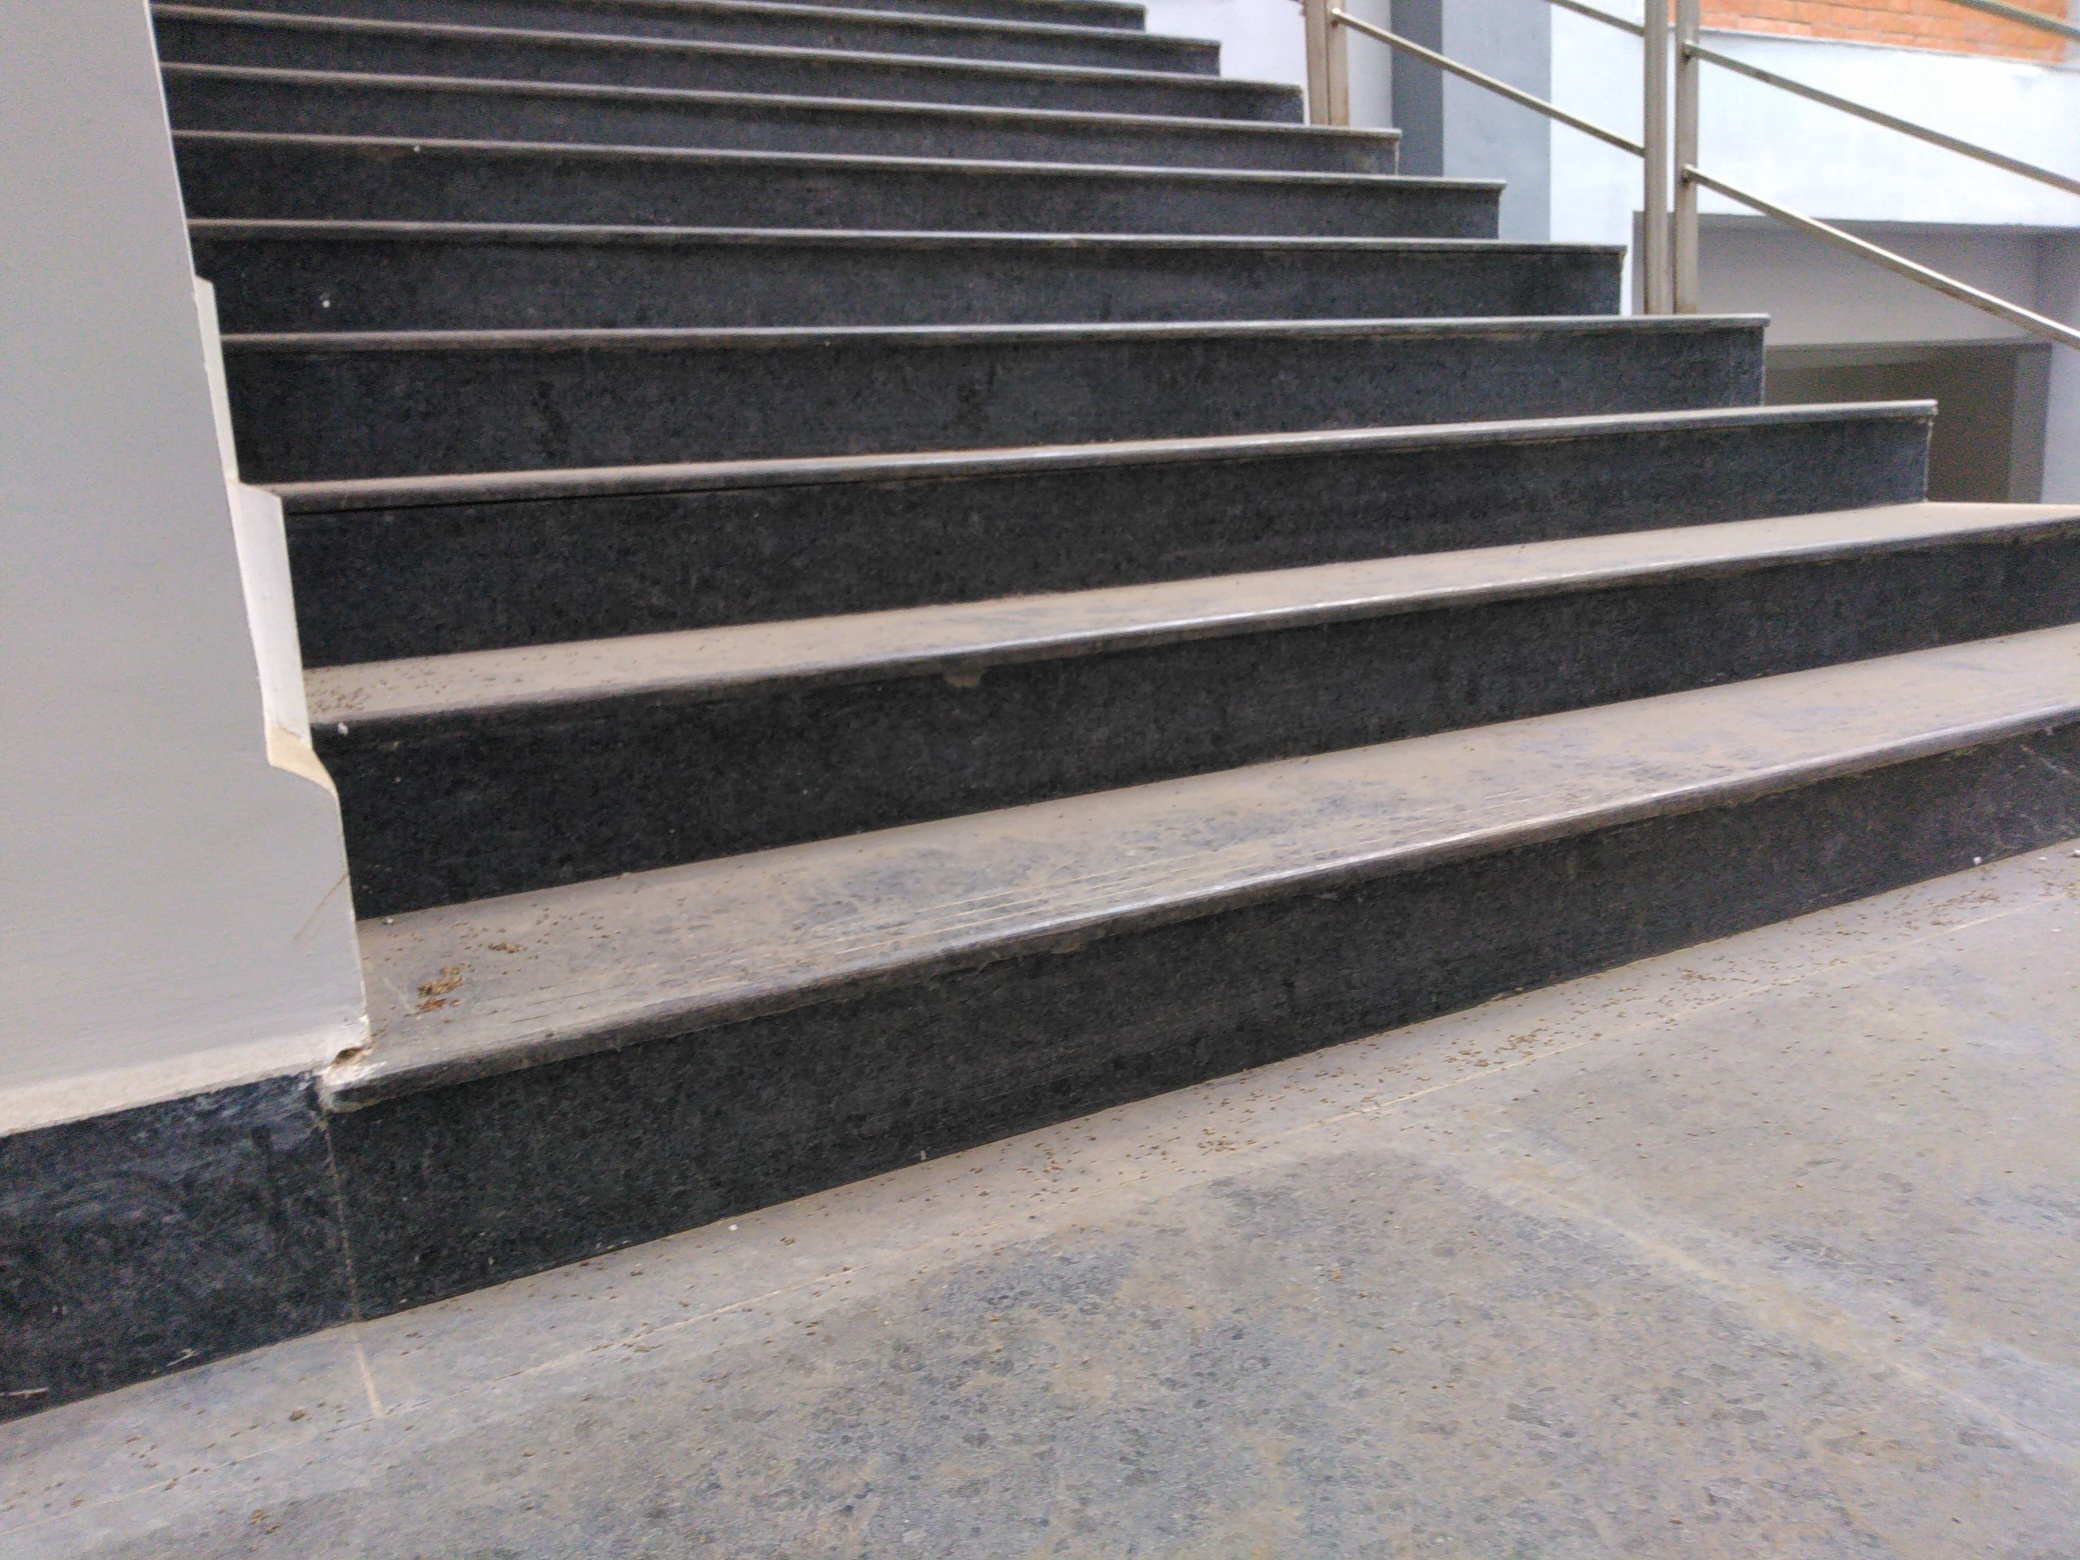stairs_up: (252, 33, 1774, 1060)
